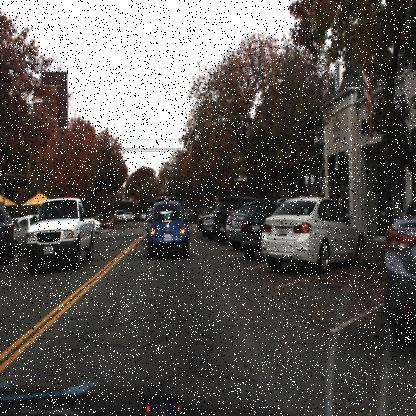car: (260, 195, 366, 271), (26, 196, 96, 273), (383, 199, 415, 351), (238, 194, 286, 259), (146, 201, 190, 256), (226, 198, 270, 252), (216, 197, 250, 247), (0, 199, 14, 271)
